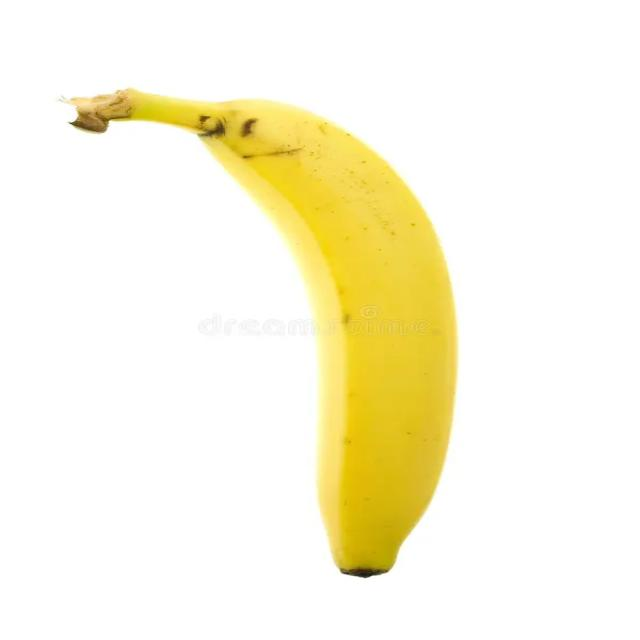banana: (95, 90, 456, 580)
